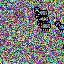sheep: (36, 19, 52, 31), (34, 6, 48, 18), (35, 12, 49, 23), (55, 20, 64, 33)
